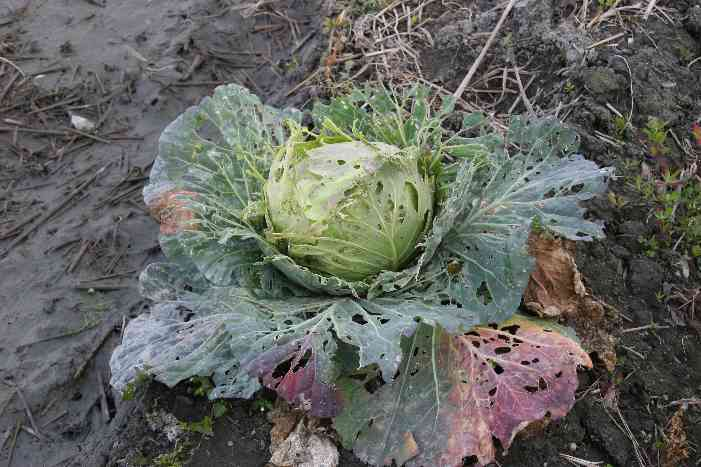cabbage: (260, 136, 436, 279)
